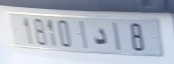0: (57, 18, 72, 49)
1: (20, 17, 34, 45), (47, 18, 56, 46)
8: (127, 22, 147, 53), (34, 17, 46, 46)
d: (90, 24, 109, 48)
